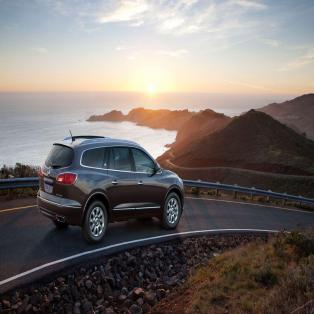Auto: (35, 127, 185, 246)
